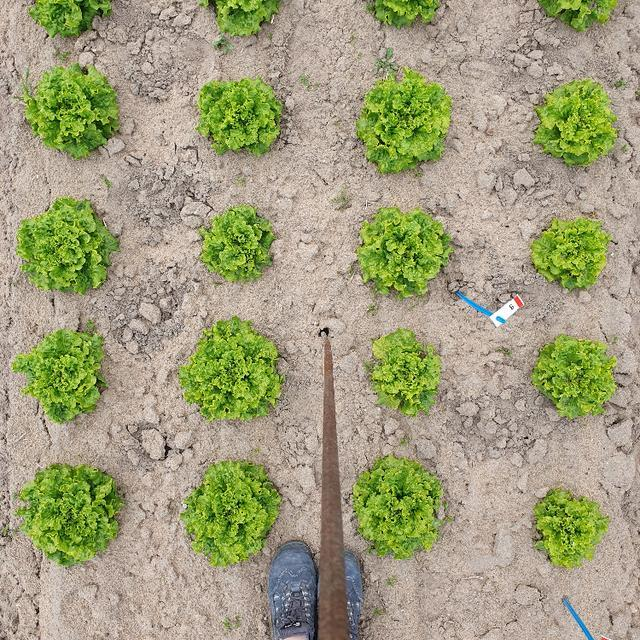Lettuce: (13, 460, 124, 570), (173, 313, 285, 422), (347, 453, 450, 560), (184, 462, 284, 565), (353, 72, 452, 175), (22, 195, 123, 295), (22, 65, 125, 162), (13, 324, 107, 428), (353, 208, 457, 297), (533, 78, 620, 167), (195, 205, 282, 288), (534, 335, 618, 418), (366, 326, 442, 416), (532, 485, 608, 572), (198, 78, 287, 152), (528, 218, 614, 294), (26, 0, 118, 41), (533, 0, 625, 35), (204, 0, 281, 41), (360, 0, 455, 33)
